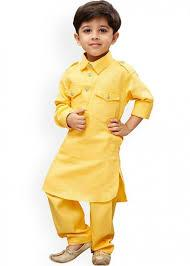Human: (42, 0, 153, 266)
